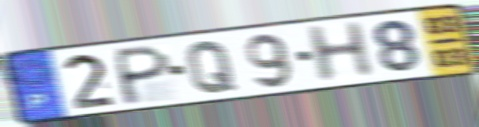2: (63, 52, 117, 111)
8: (371, 17, 423, 75)
9: (244, 31, 294, 90)
H: (302, 19, 378, 86)
P: (114, 43, 173, 107)
Q: (184, 39, 239, 96)
